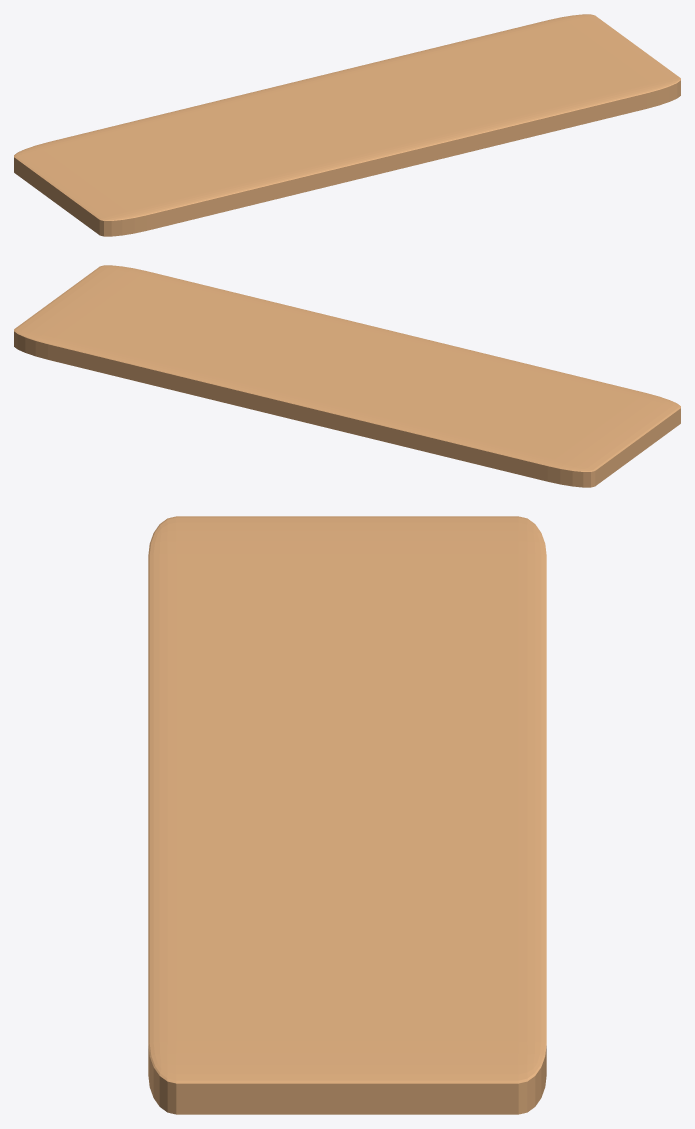
Rendered from plank.fbx.
3 renders of one model, top to bottom at view 1: azimuth 30°, elevation 25°; view 2: azimuth 150°, elevation 25°; view 3: azimuth 270°, elevation 25°, orthographic. The views are drawn at different scales.
Visible parts, largest first — view 1: Cube; view 2: Cube; view 3: Cube.
Part boxes in pixels (<box>): Cube: <box>14,14,680,236</box>; Cube: <box>14,265,680,487</box>; Cube: <box>148,516,546,1114</box>.
Bounding box in the file's own units: 175 × 5.2 × 51.96.
